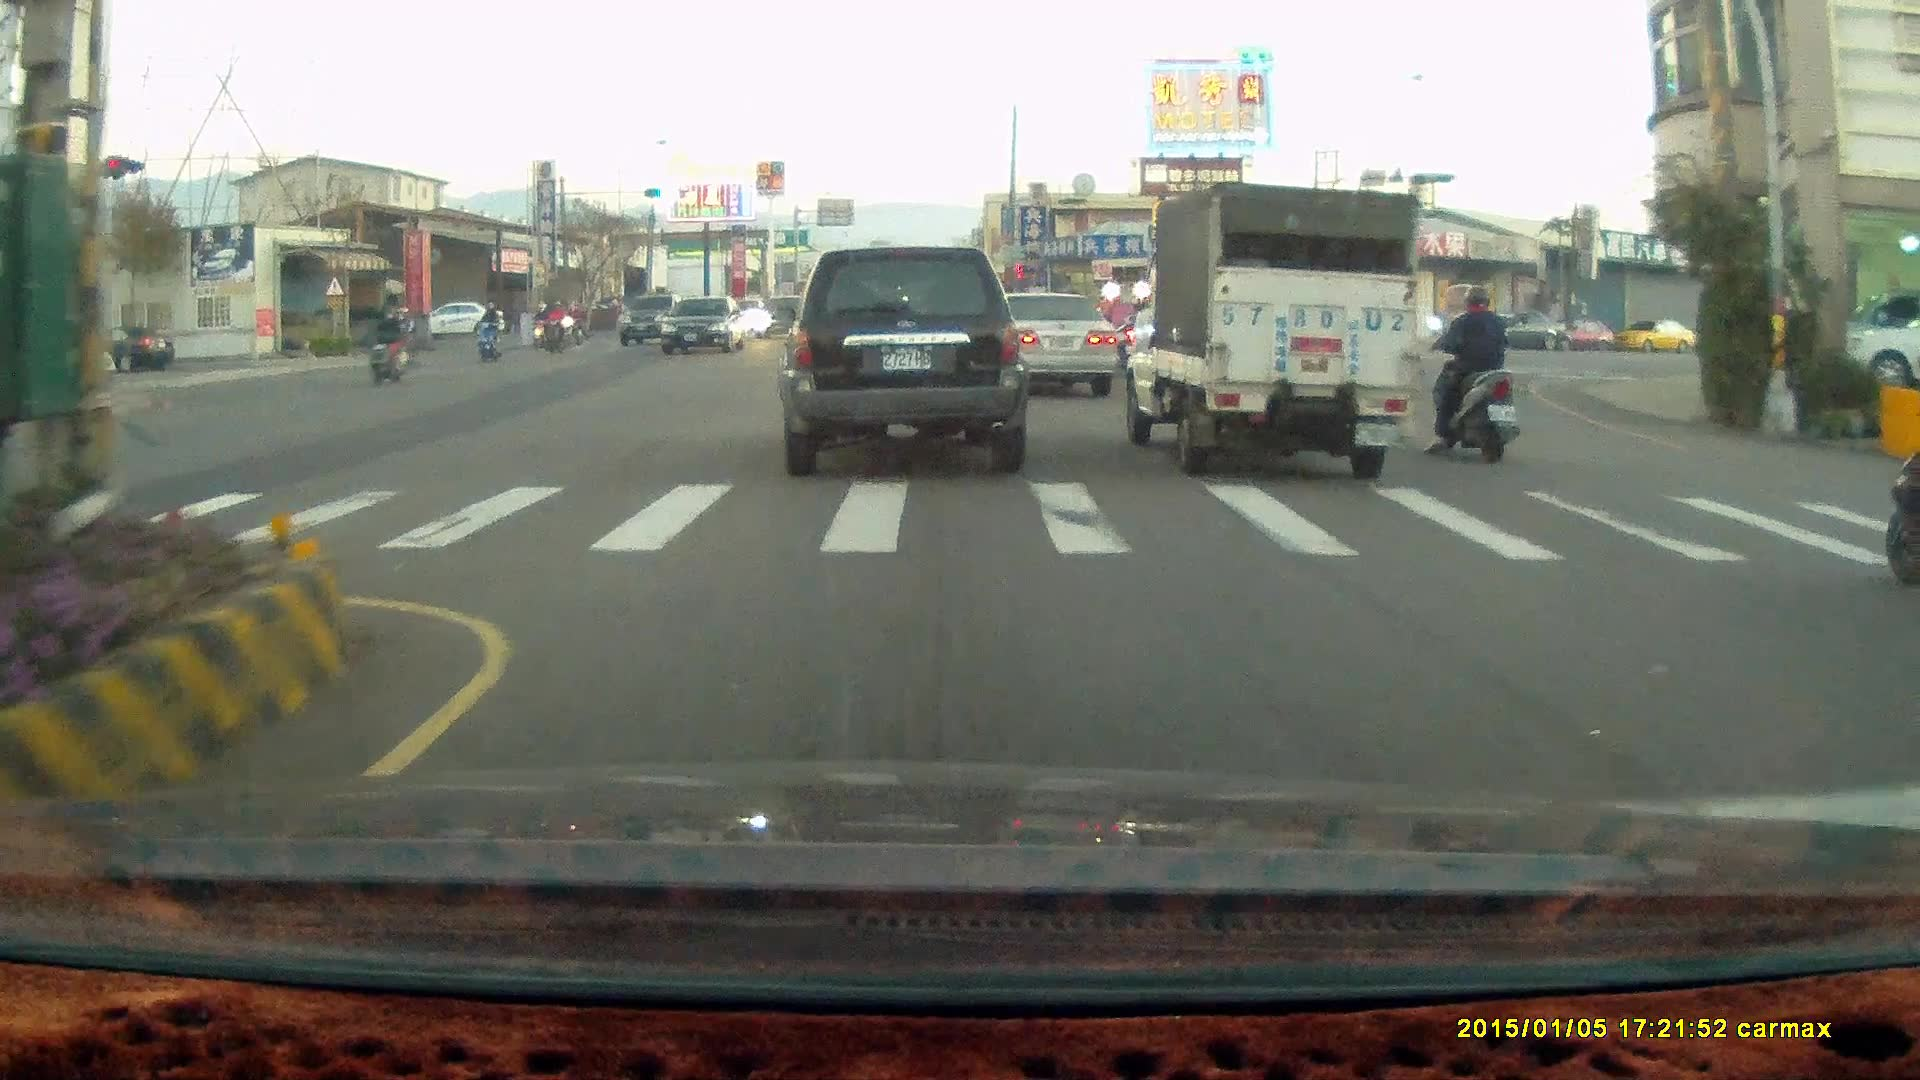rider: (1421, 280, 1521, 467), (369, 309, 407, 383), (474, 300, 502, 362), (541, 297, 570, 353), (529, 299, 557, 350)
vehicle: (1121, 178, 1419, 475), (775, 245, 1028, 476), (978, 290, 1123, 399), (977, 289, 1116, 395), (25, 314, 119, 402), (1844, 308, 1920, 390), (658, 295, 749, 357), (1464, 310, 1571, 354), (428, 301, 505, 340), (1553, 319, 1618, 353)
